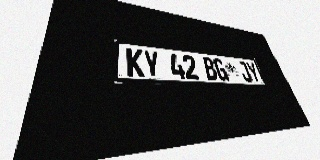2: (181, 54, 199, 80)
4: (168, 53, 186, 79)
B: (201, 57, 219, 80)
G: (212, 58, 229, 81)
J: (237, 61, 253, 82)
K: (126, 48, 145, 77)
Y: (143, 50, 161, 78), (245, 62, 262, 82)
